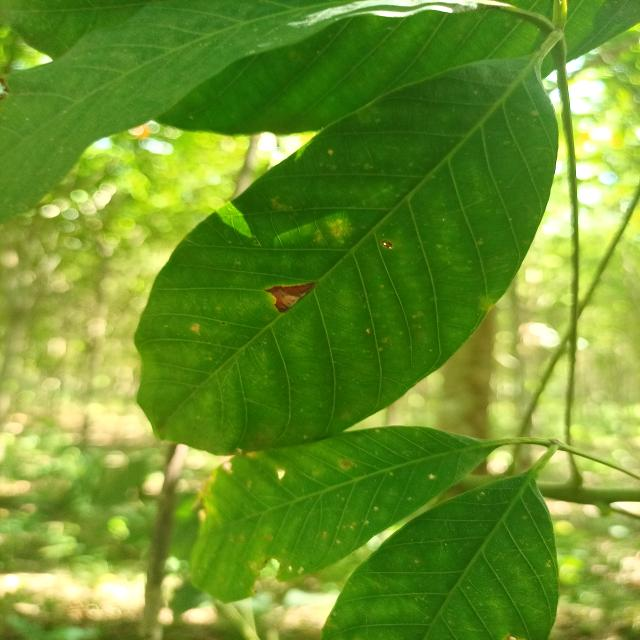Leaf-Blight: (266, 282, 318, 312)
